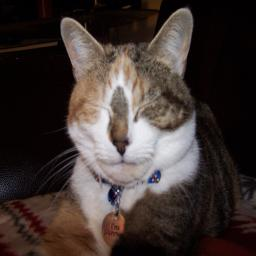catnose: (112, 138, 129, 156)
